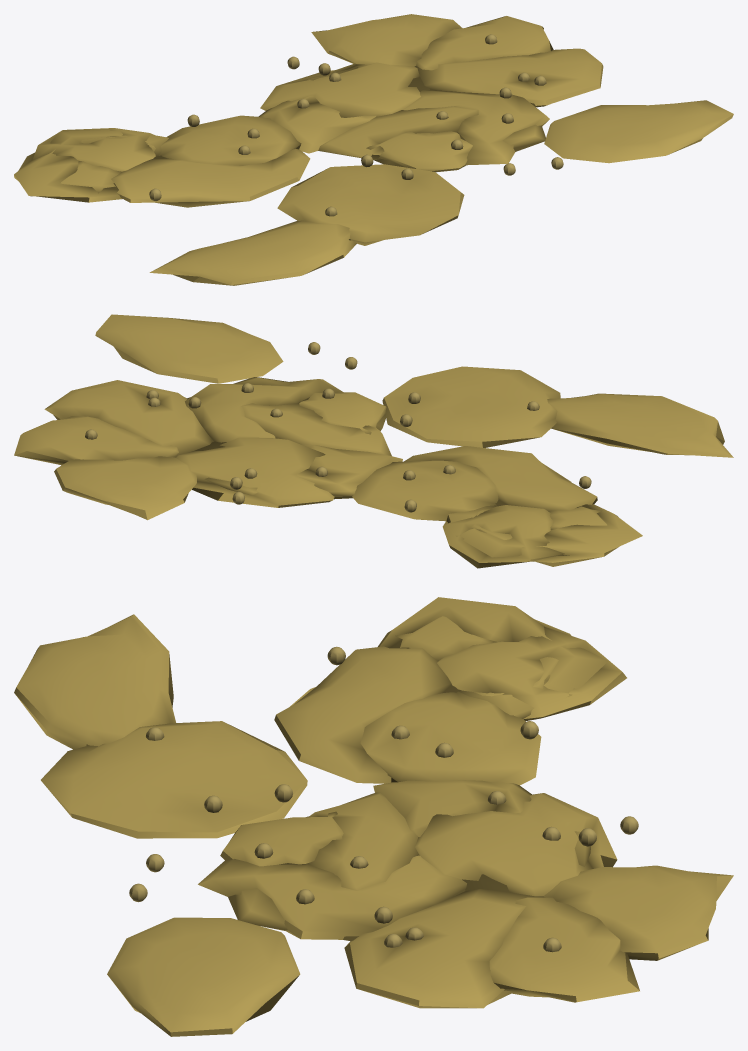
The model's file is sargassum.glb.
The picture shows the model from 3 angles, top to bottom: view 1: azimuth 30°, elevation 25°; view 2: azimuth 150°, elevation 25°; view 3: azimuth 270°, elevation 25°; orthographic projection. The views are drawn at different scales.
Parts seen in each view (by area): view 1: boat_sarg, boat_bulb; view 2: boat_sarg, boat_bulb; view 3: boat_sarg, boat_bulb.
Boxes of the visible parts, x1,y1,x2,y2 form: boat_sarg: [14, 14, 733, 285]; boat_bulb: [149, 34, 563, 216]; boat_sarg: [14, 314, 733, 568]; boat_bulb: [85, 342, 591, 512]; boat_sarg: [14, 597, 733, 1036]; boat_bulb: [129, 646, 638, 952].
Size of the model in its own units: 3.88 by 0.148 by 2.71.
